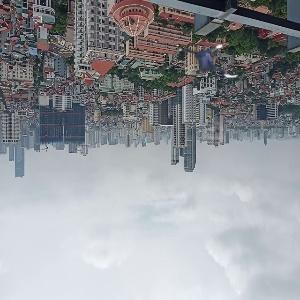drone: (184, 33, 243, 92)
